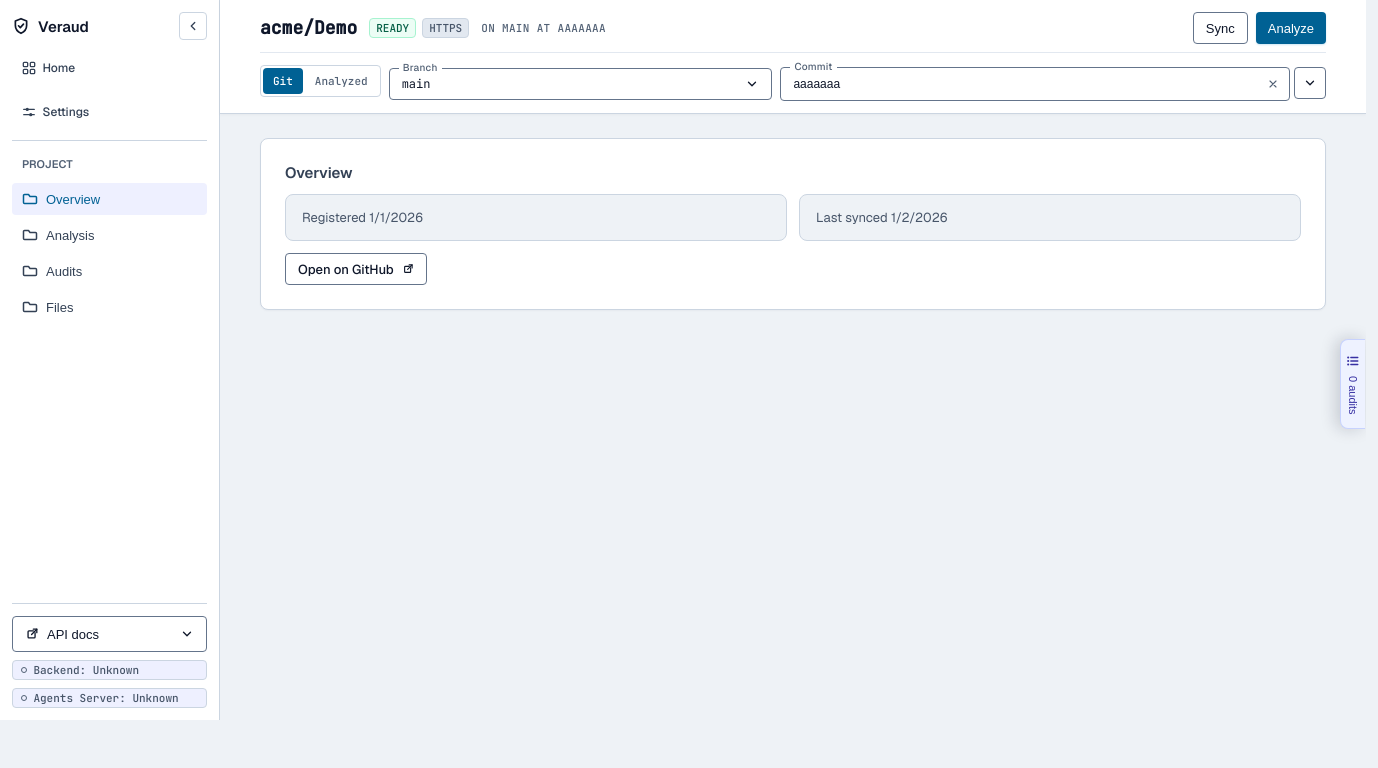
ProjectDetailPage › syncs on demand and refreshes the header
Expected: the heading "acme/Demo" is shown, 260,16 -> 357,40
Click the button "Sync" at coordinates (1220, 28), box 1193,12 -> 1248,44
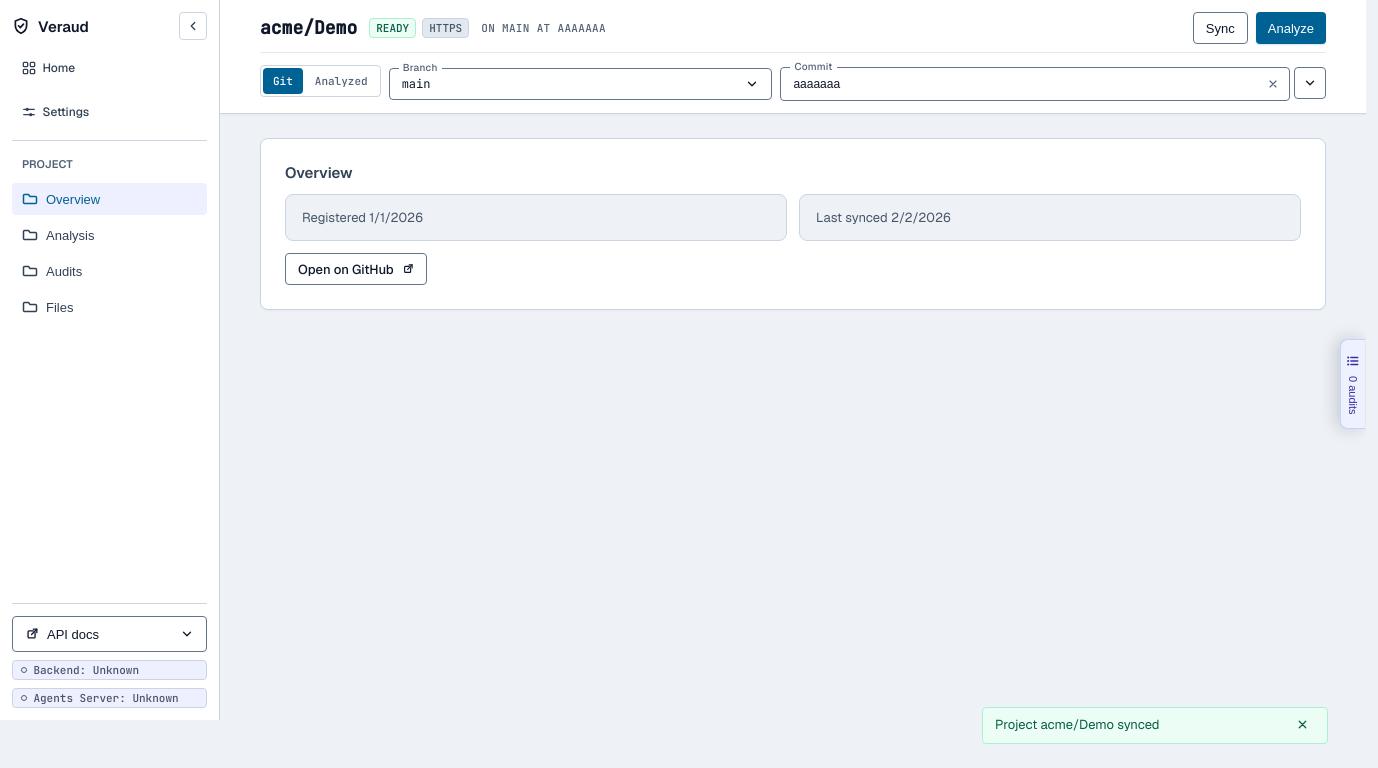
Expected: the text "Project acme/Demo synced" is shown, 995,716 -> 1160,733
